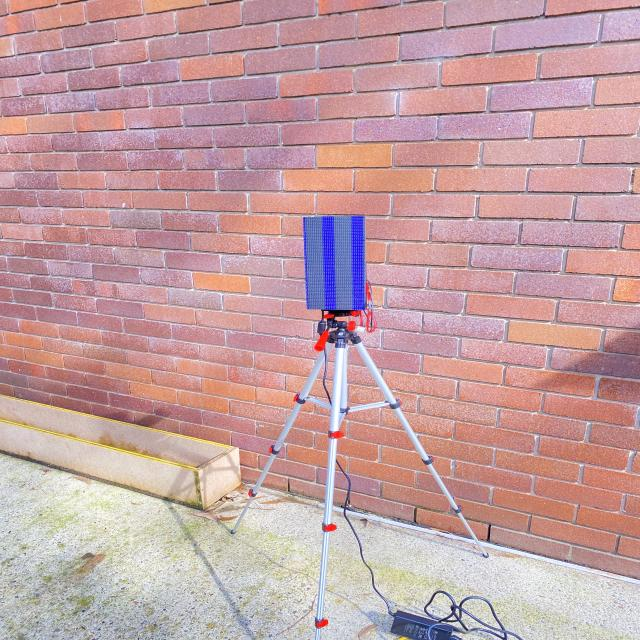matrix: (298, 210, 372, 312)
